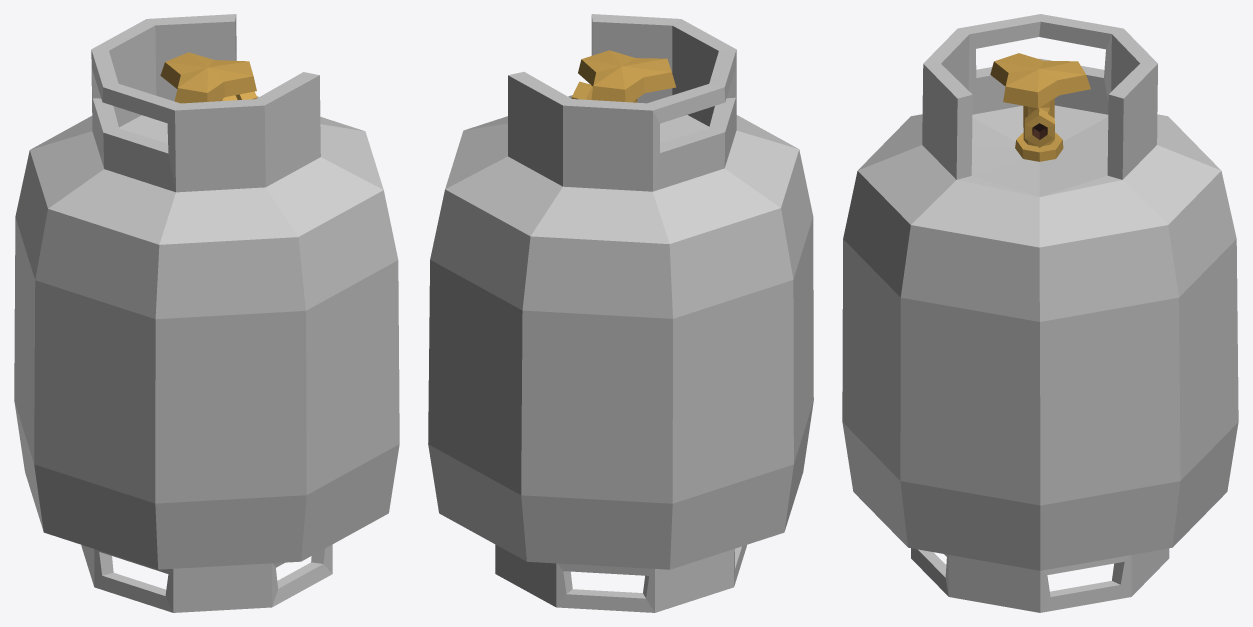
File: SM_Prop_Propanel_01.fbx
3 renders of one model, left to right at view 1: azimuth 30°, elevation 25°; view 2: azimuth 150°, elevation 25°; view 3: azimuth 270°, elevation 25°, orthographic.
Visible parts, largest first — view 1: SM_Prop_Propanel_01; view 2: SM_Prop_Propanel_01; view 3: SM_Prop_Propanel_01.
Boxes of the visible parts, <box> form: SM_Prop_Propanel_01: <box>14,14,399,612</box>; SM_Prop_Propanel_01: <box>428,14,813,612</box>; SM_Prop_Propanel_01: <box>842,14,1238,612</box>.
Size of the model in its own units: 33.77 by 46.48 by 33.77.
